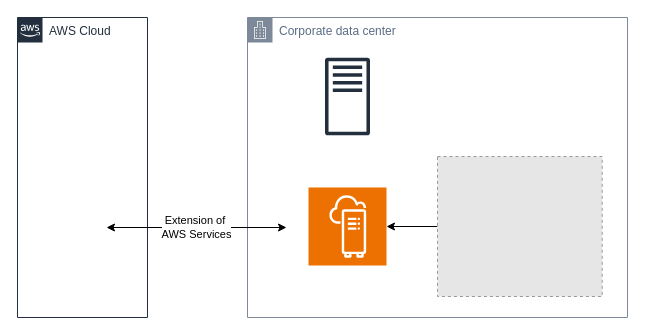
The diagram is 645 pixels wide and 335 high, and some of its shapes have lost their labels. Grey dashed boxes stand in for pictures. Here are the shapes that lost their labels. From the top down, the centre of each, then its label:
At (x=347, y=96): "On-Premises servers".
At (x=347, y=226): "Outposts Racks".
